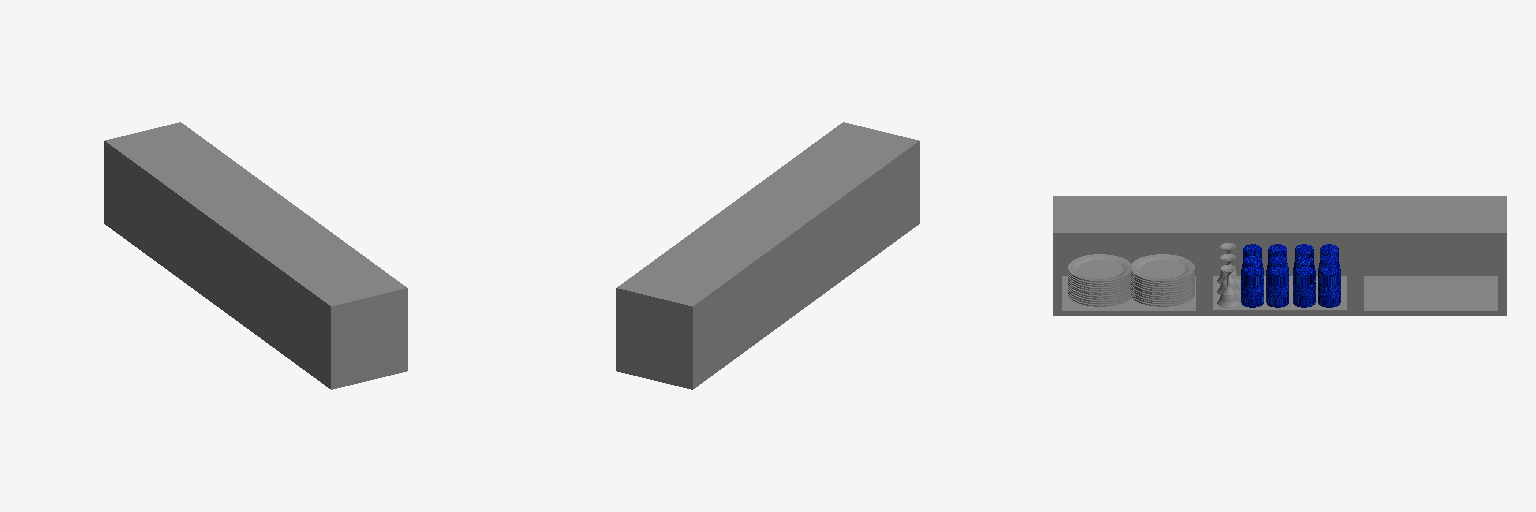
3 renders of one model, left to right at view 1: azimuth 30°, elevation 25°; view 2: azimuth 150°, elevation 25°; view 3: azimuth 270°, elevation 25°, orthographic.
Visible parts, largest first — view 1: Cabinet; view 2: Cabinet; view 3: Cabinet.
Part boxes in pixels (left/top/right/bottom): Cabinet: left=104, top=122, right=407, bottom=389; Cabinet: left=616, top=122, right=919, bottom=389; Cabinet: left=1053, top=196, right=1506, bottom=315.
Size of the model in its own units: 23.04 by 24.03 by 118.
Materials: 4 (1 with a texture image).